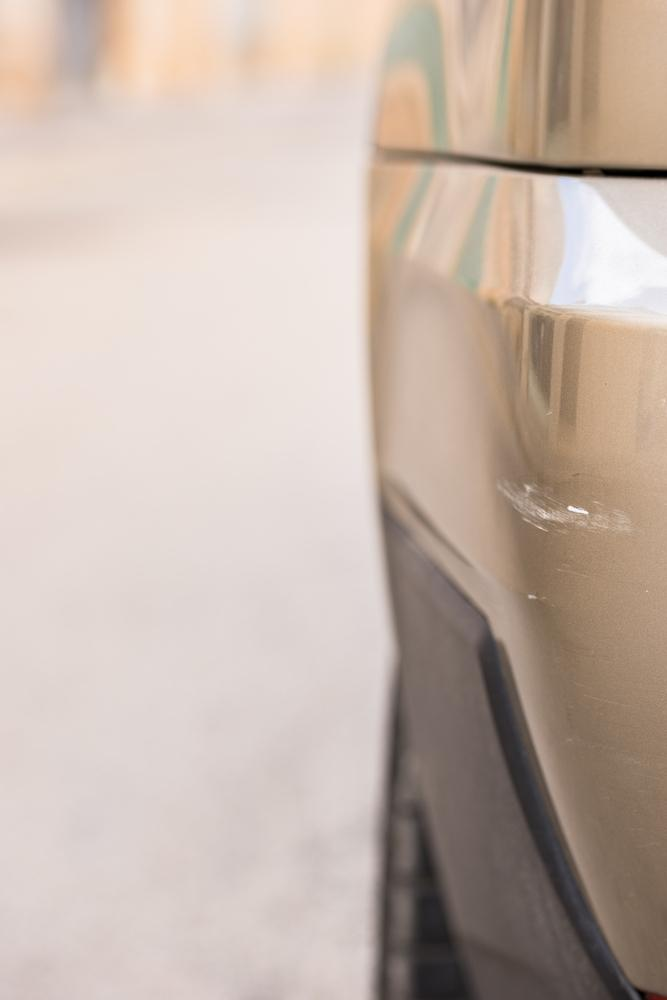scratch: (490, 475, 646, 536)
